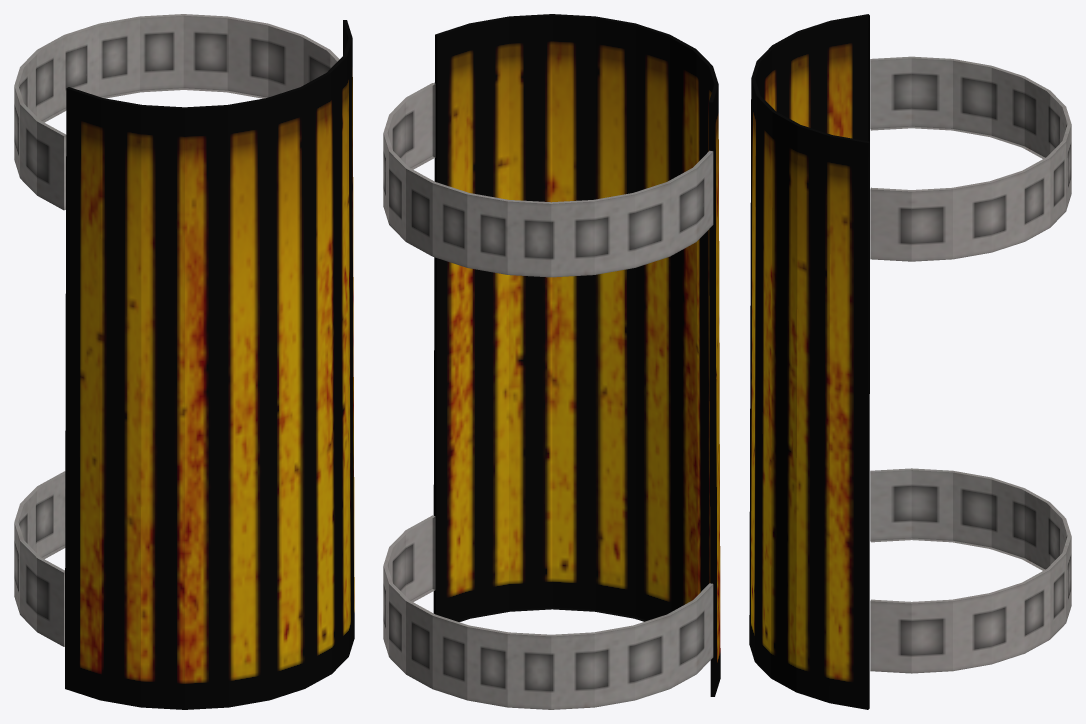
The model's file is denchuHyoushikiban.fbx.
The picture shows the model from 3 angles, left to right: view 1: azimuth 30°, elevation 25°; view 2: azimuth 150°, elevation 25°; view 3: azimuth 270°, elevation 25°; orthographic projection. The views are drawn at different scales.
Parts seen in each view (by area): view 1: Empty_Mesh; view 2: Empty_Mesh; view 3: Empty_Mesh.
Boxes of the visible parts, x1=… form: Empty_Mesh: x1=14, y1=14, x2=354, y2=709; Empty_Mesh: x1=383, y1=14, x2=720, y2=709; Empty_Mesh: x1=749, y1=14, x2=1071, y2=709.
Size of the model in its own units: 0.3434 by 0.6711 by 0.3462.
